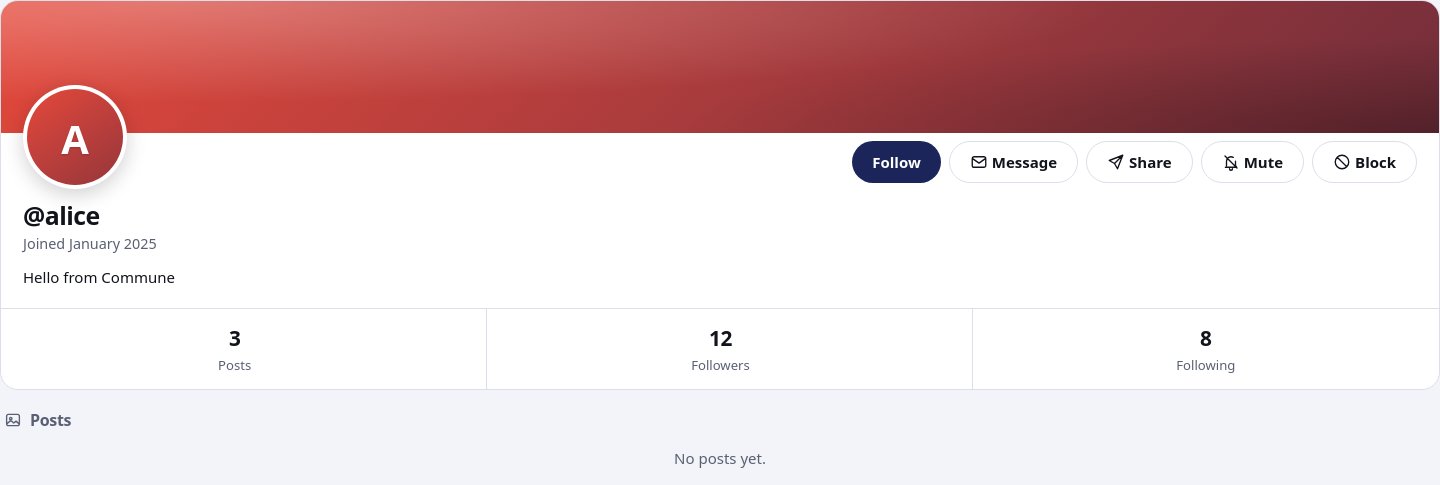
Scenario: ProfilePage Share button › falls back to copying the profile URL and showing a toast when navigator.share is unavailable
The image size is (1440, 485).
Click the button with aria-label "Share @alice's profile". click: click(1139, 162)
box: [1086,140,1193,183]
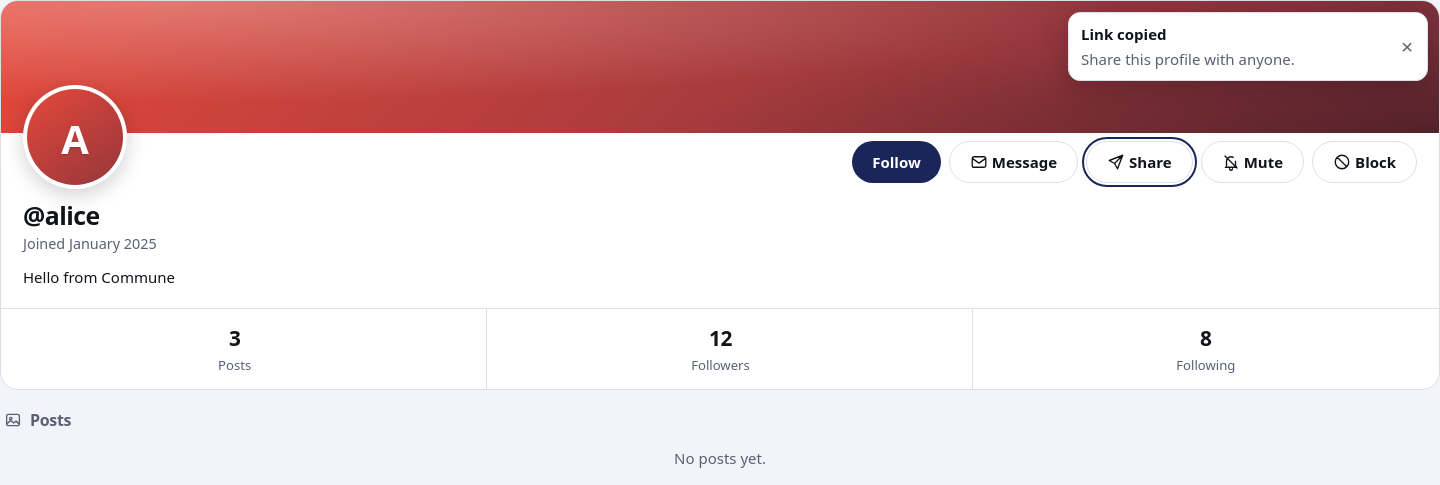
Expected: the message shows "Link copied", [1069,13,1387,80]
Expected: the message shows "Share this profile with anyone.", [1069,13,1387,80]
